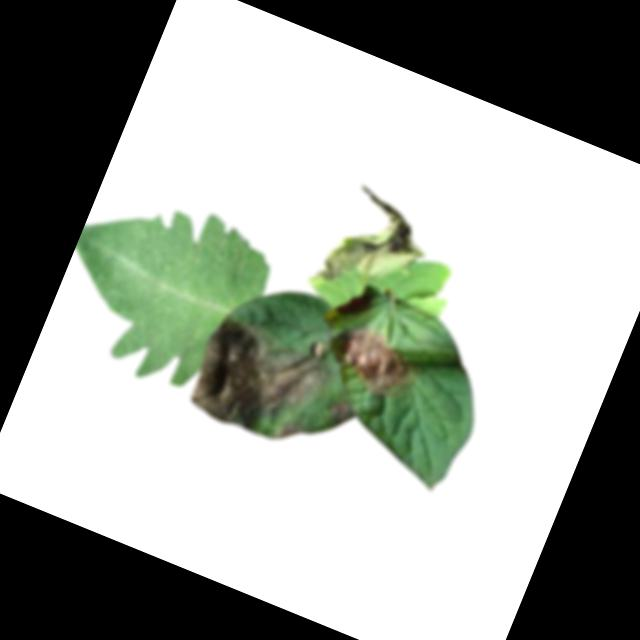Late_blight: (180, 309, 341, 457), (314, 182, 442, 314), (329, 320, 423, 401), (273, 417, 310, 449), (323, 395, 357, 429), (306, 337, 330, 360)
healthy: (40, 169, 289, 410)
